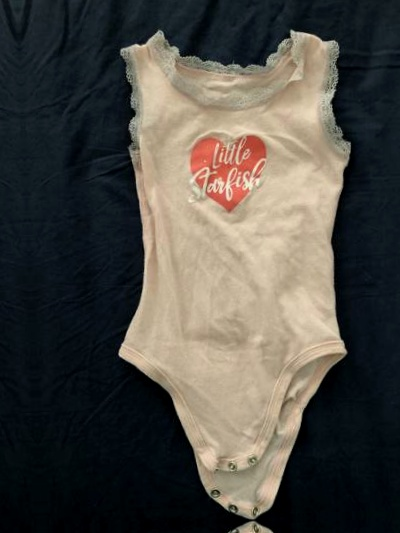Body: (61, 0, 388, 526), (86, 517, 400, 533)
